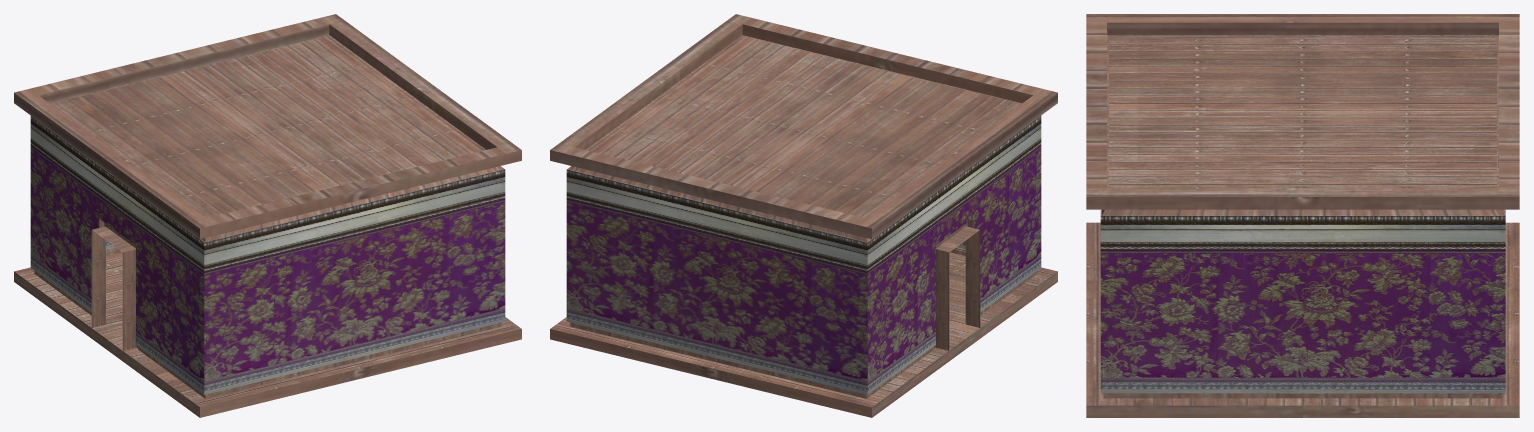
Rendered from 1Door_Room01.fbx.
3 renders of one model, left to right at view 1: azimuth 30°, elevation 25°; view 2: azimuth 150°, elevation 25°; view 3: azimuth 270°, elevation 25°, orthographic. The views are drawn at different scales.
Parts seen in each view (by area): view 1: Norm_1Door_Room04; view 2: Norm_1Door_Room04; view 3: Norm_1Door_Room04.
Boxes of the visible parts, x1=… form: Norm_1Door_Room04: x1=14, y1=14, x2=521, y2=417; Norm_1Door_Room04: x1=550, y1=14, x2=1057, y2=417; Norm_1Door_Room04: x1=1086, y1=14, x2=1519, y2=417.
Size of the model in its own units: 6 by 3.37 by 6.
